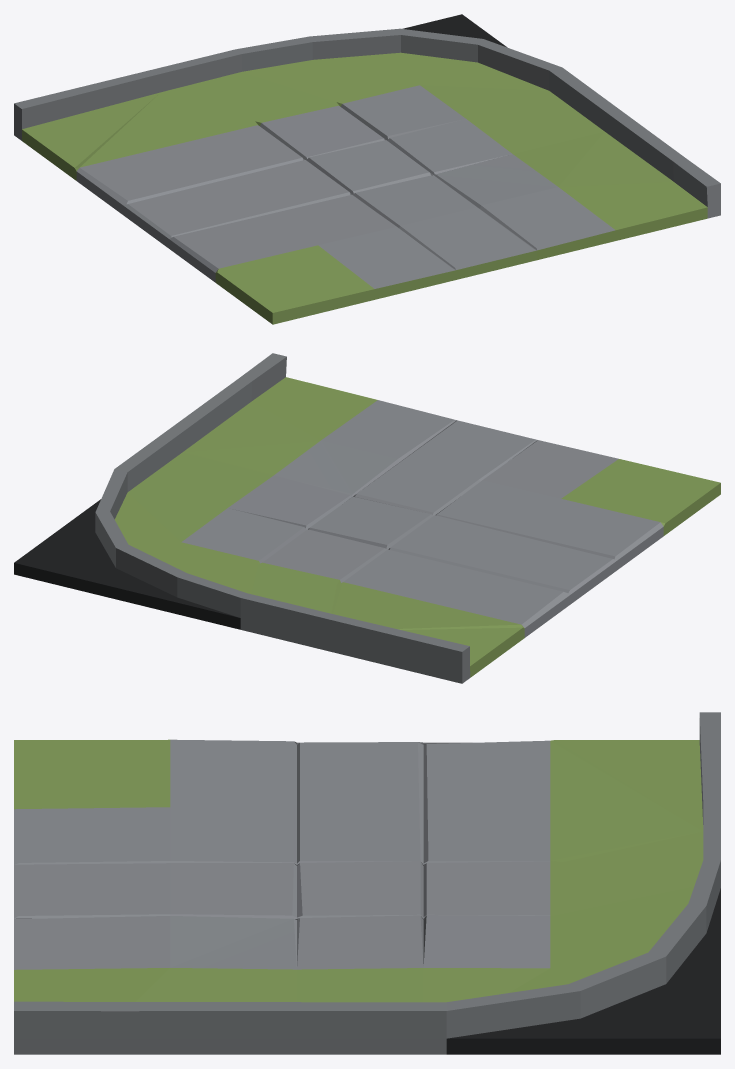
File: Road_014-col.glb
3 views of the same model, one above another, from view 1: azimuth 30°, elevation 25°; view 2: azimuth 150°, elevation 25°; view 3: azimuth 270°, elevation 25° (orthographic). The views are drawn at different scales.
Visible parts, largest first — view 1: Sidewalk_03_A-col; view 2: Sidewalk_03_A-col; view 3: Sidewalk_03_A-col.
Part boxes in pixels (bbox=[...]): Sidewalk_03_A-col: bbox=[14, 14, 720, 324]; Sidewalk_03_A-col: bbox=[14, 353, 720, 683]; Sidewalk_03_A-col: bbox=[14, 712, 720, 1054].
Size of the model in its own units: 2 by 0.1363 by 2.
1 material, 1 textured.
